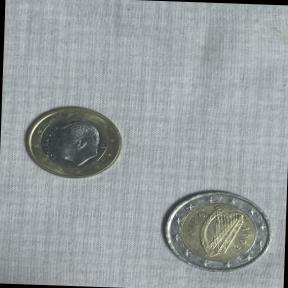1 Euro-B: (20, 102, 126, 184)
2 Euro-B: (154, 183, 278, 279)
